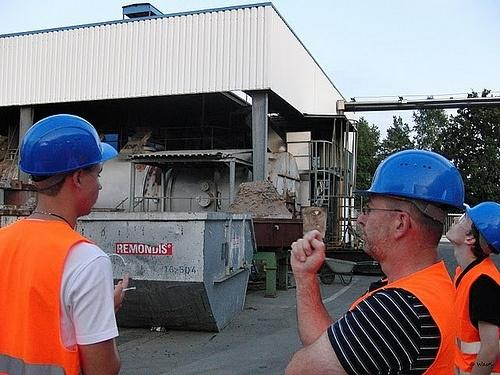capacete: (10, 108, 118, 179), (360, 143, 458, 216), (465, 201, 500, 259)
pessoa: (303, 137, 453, 375), (0, 95, 117, 375), (451, 200, 500, 375)
uniforme seguranca: (0, 223, 118, 375), (329, 259, 450, 375), (459, 262, 500, 375)
